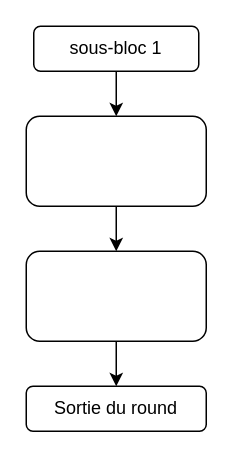
Image size: 233x458. Some labels were removed from this diagram. Here are the shapes that lost their labels. From the top down, the centre of each, then its label:
point 115,160: Chiffrement affine
point 115,295: Permutation
